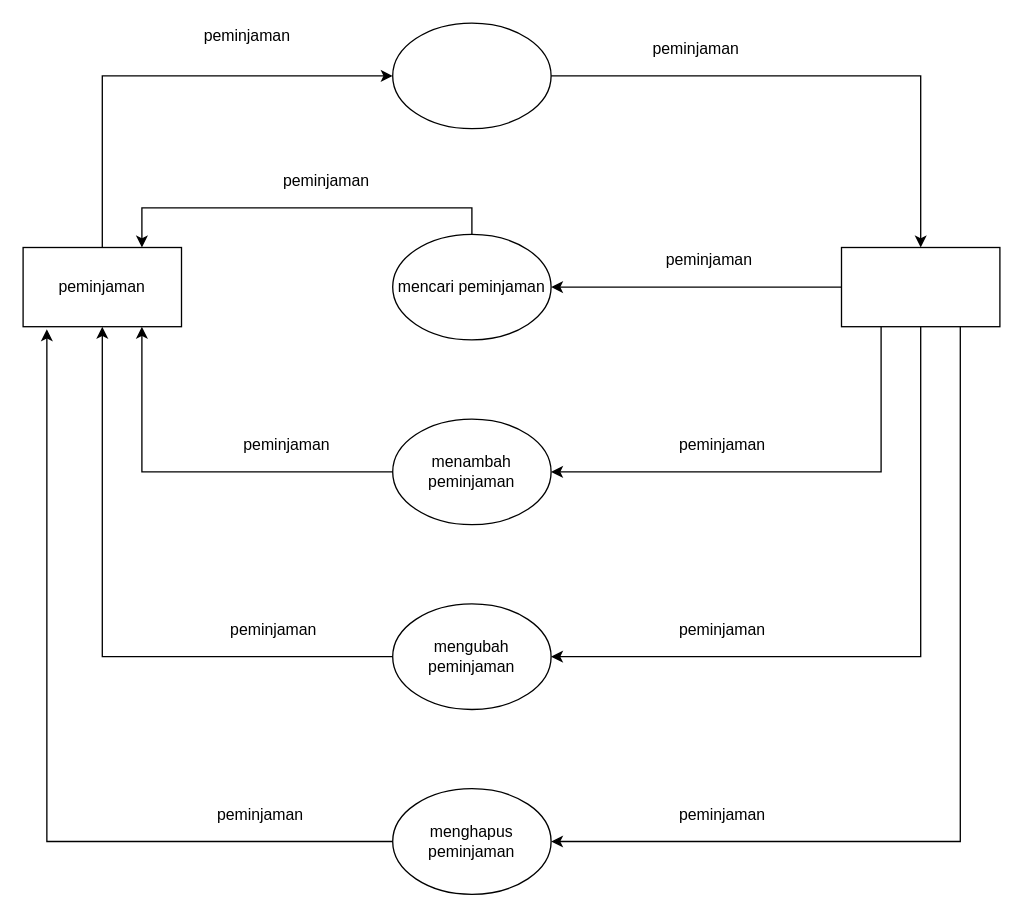
Some shapes in this 1023 by 917 pixel diagram are drawn without their labels. The centre of each missing label's shape, as x and y in pixels:
melihat peminjaman: point 471,75
petugas: point 920,286
